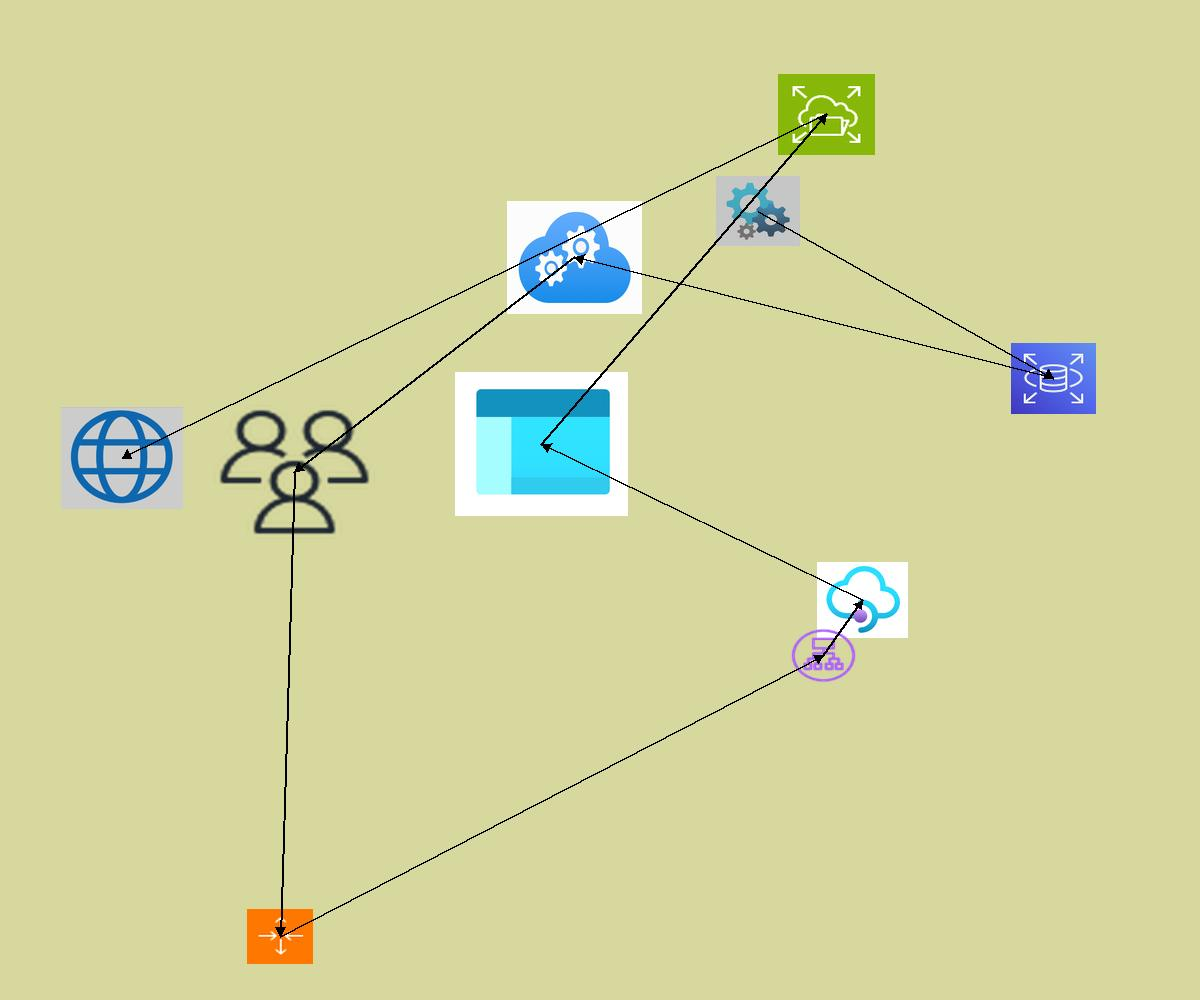AWS-EFS: (778, 74, 875, 155)
AWS-RDS: (1011, 343, 1096, 414)
AWS-Res_Elastic-Load-Balancing_Application-Load-Balancer: (789, 627, 858, 684)
AWS-Res_Users: (214, 405, 375, 539)
AWS-Scaling-group: (247, 909, 313, 964)
Azure_api: (716, 176, 800, 246)
Azure_api_gateway: (817, 562, 908, 638)
Azure_cloud_services: (507, 201, 642, 314)
Azure_http: (61, 407, 183, 509)
Azure_management-portal: (455, 372, 628, 516)
